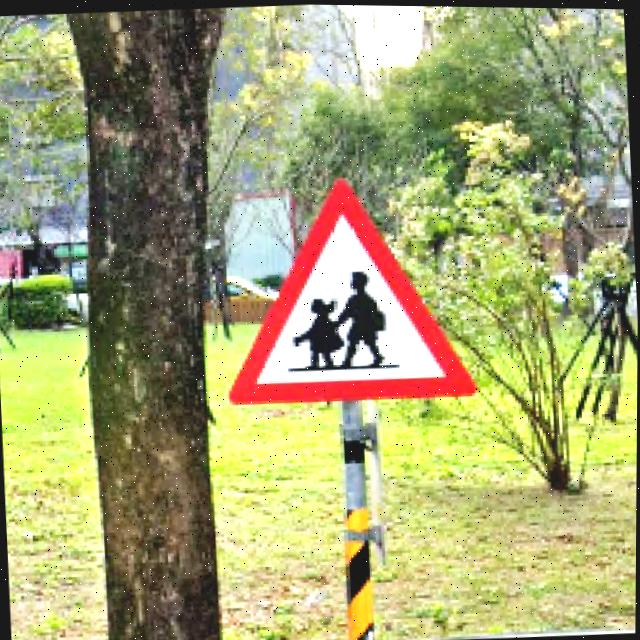childrencross: (228, 180, 476, 402)
